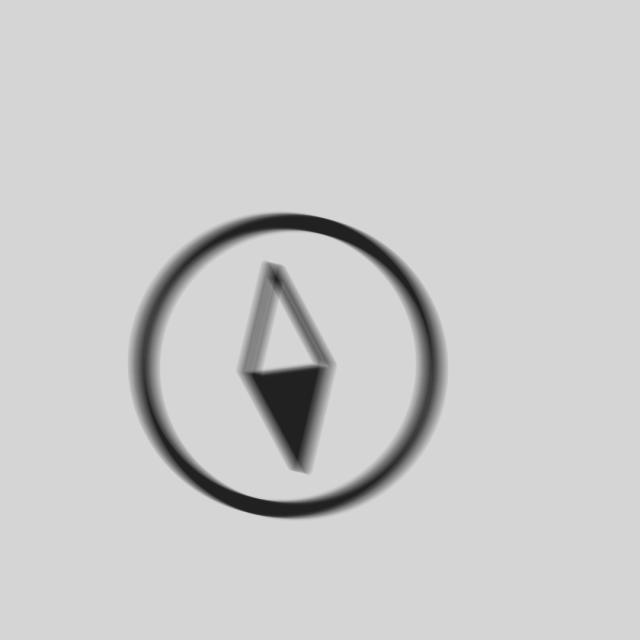compass: (126, 206, 451, 530)
